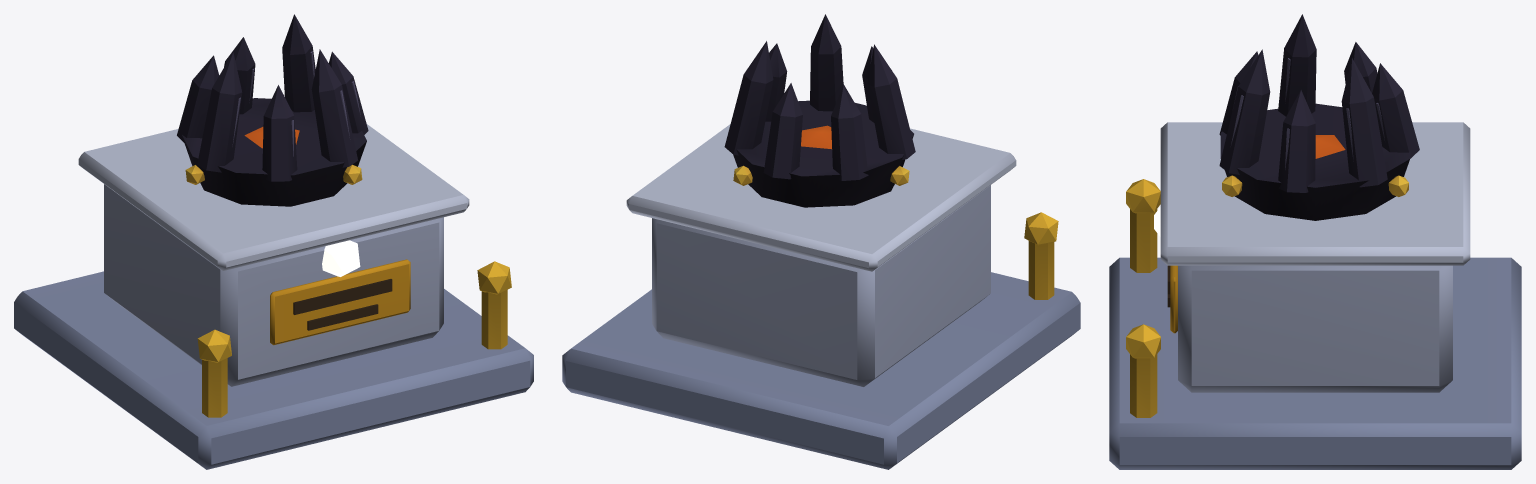
The model's file is b_trophy_brodel.glb.
3 renders of one model, left to right at view 1: azimuth 30°, elevation 25°; view 2: azimuth 150°, elevation 25°; view 3: azimuth 270°, elevation 25°, orthographic. The views are drawn at different scales.
Visible parts, largest first — view 1: body, pulse_gem_glow; view 2: body; view 3: body.
Boxes of the visible parts, bbox=[...] form: body: bbox=[14, 14, 533, 469]; pulse_gem_glow: bbox=[322, 240, 360, 276]; body: bbox=[562, 14, 1080, 469]; body: bbox=[1109, 14, 1521, 469].
Size of the model in its own units: 2.4 by 2.24 by 2.4.
